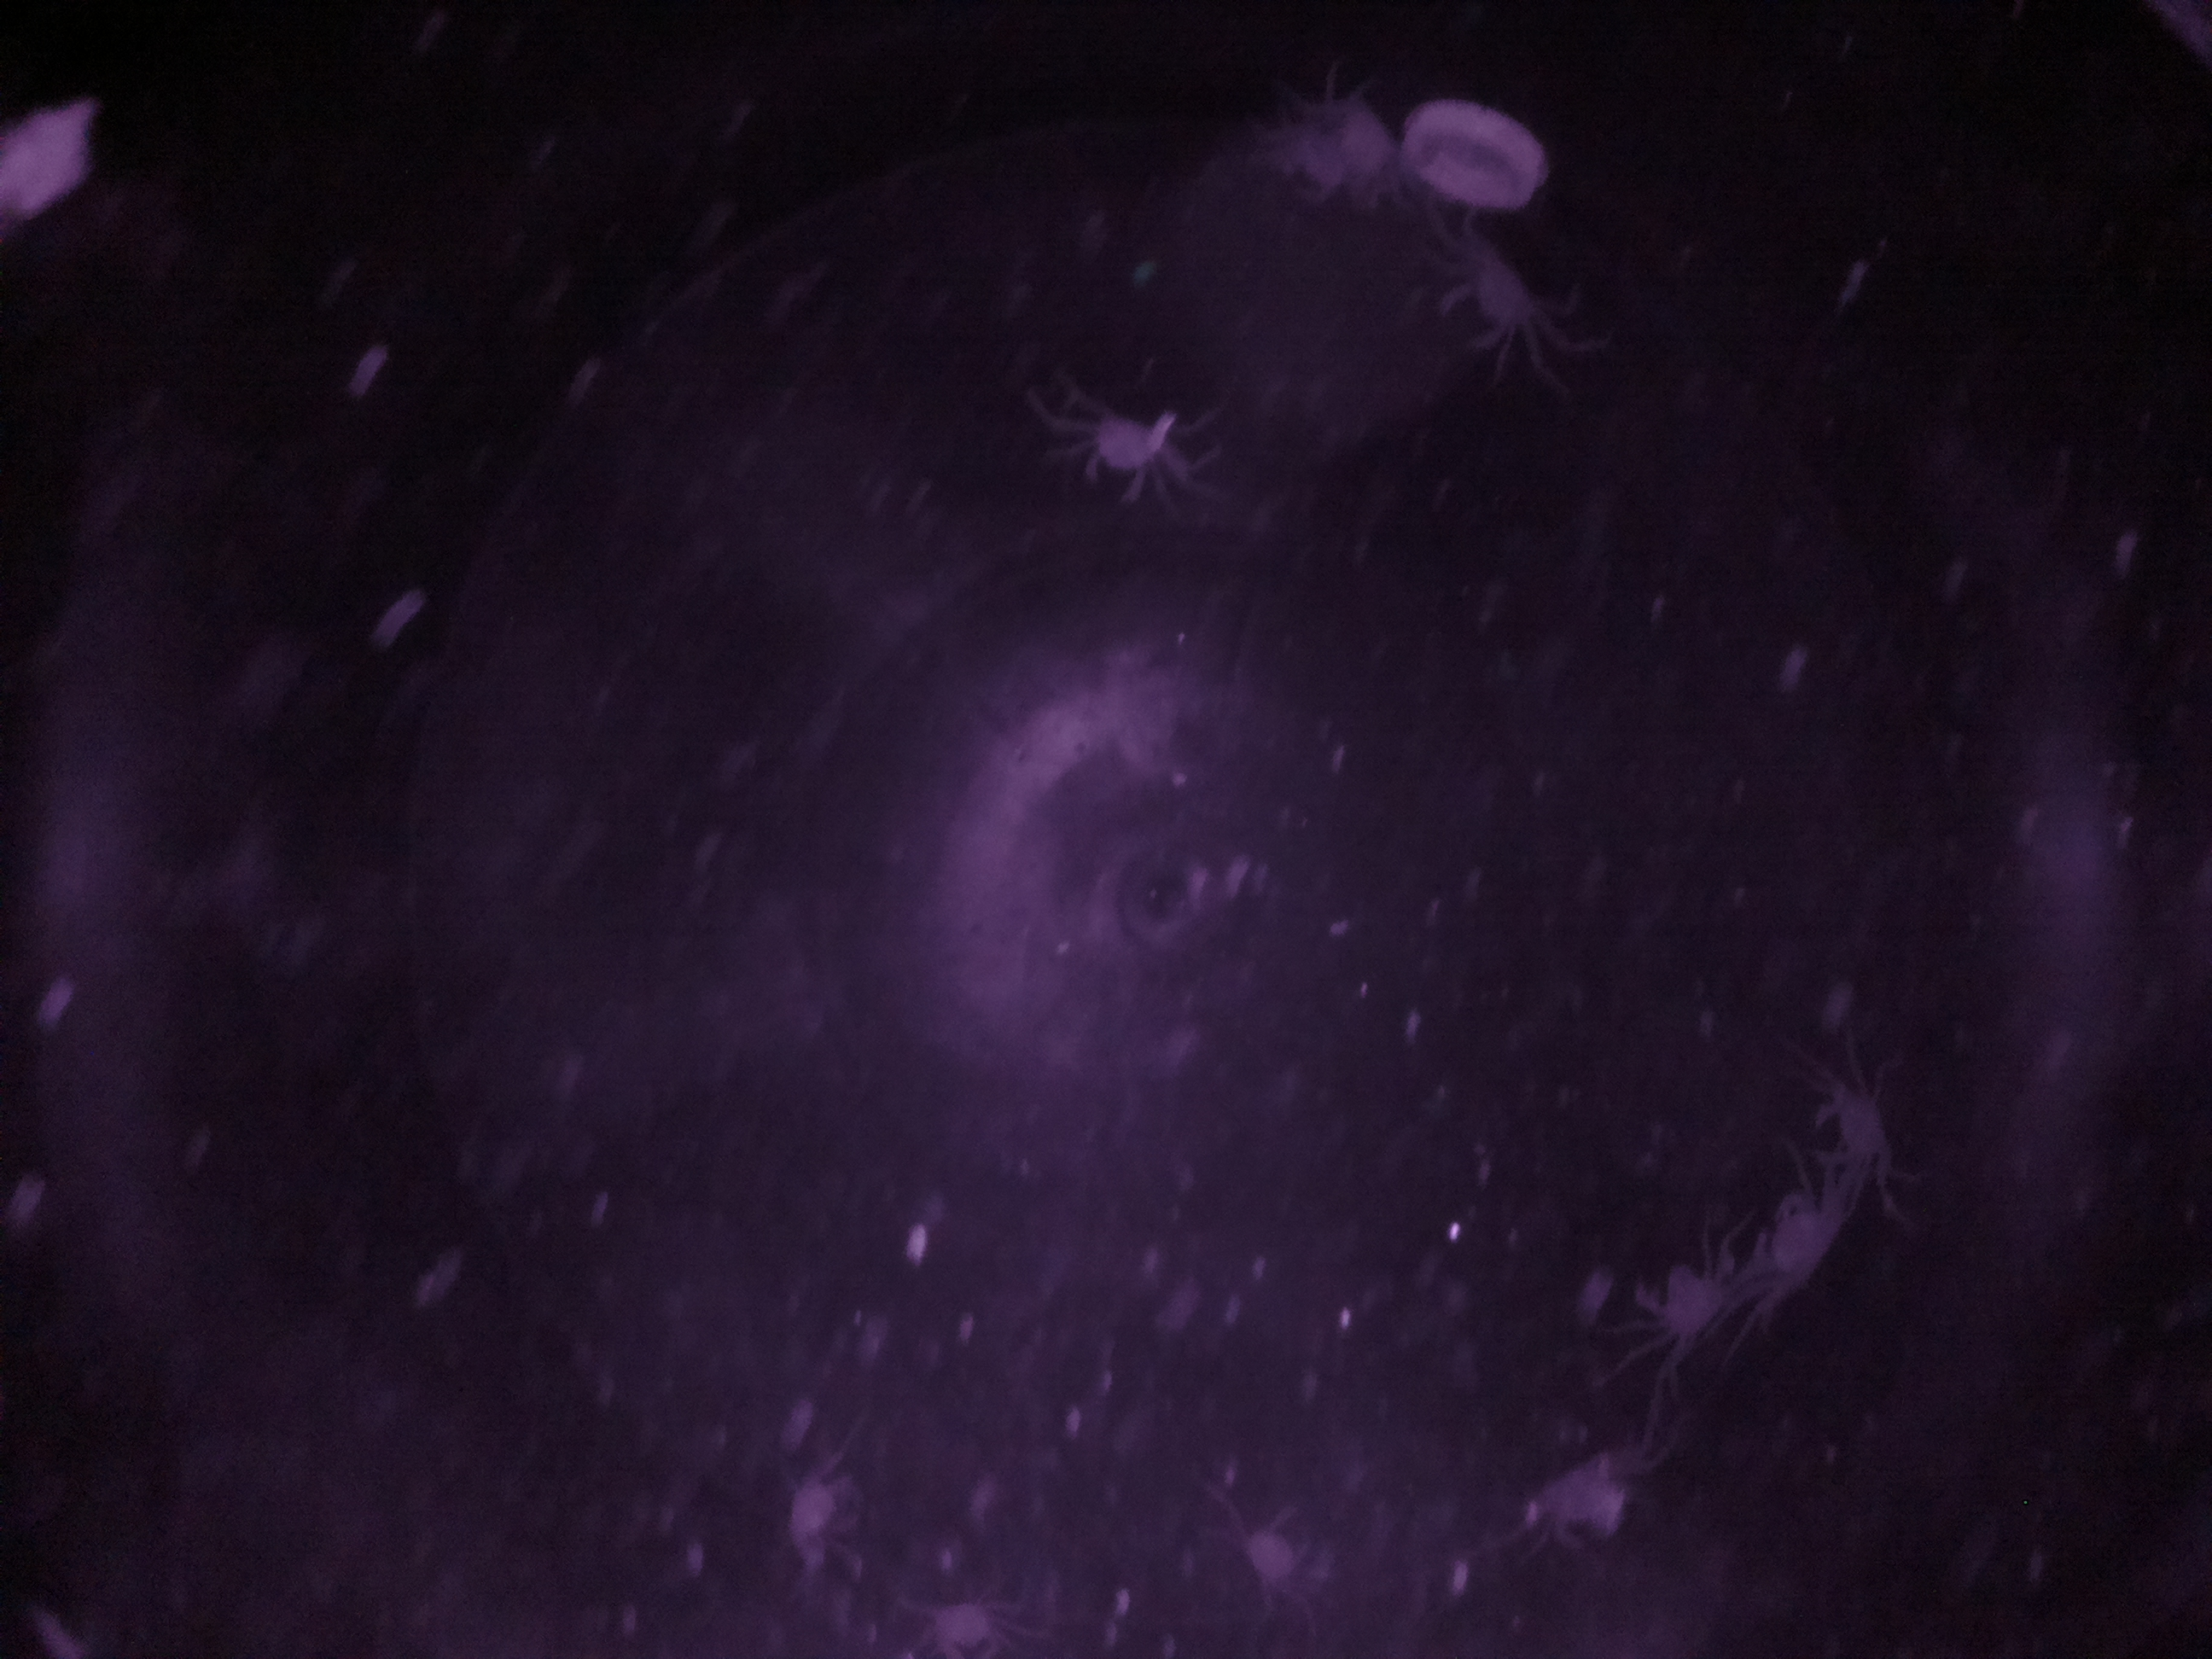Crab: (1435, 237, 1562, 376), (1737, 1176, 1857, 1316), (1071, 383, 1191, 521), (1637, 1241, 1743, 1366)
